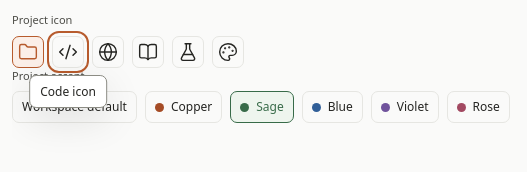
chat and appearance controls › gives project icons discoverable hover and keyboard labels without changing selection on focus
The width and height of the screenshot is (527, 172).
Expected: the text with class "control-label" reads "Code icon", [40, 82, 96, 100]
Step 1. Press Escape
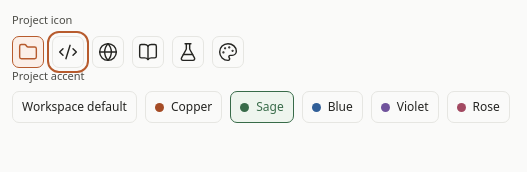
Result: the text with class "control-label" is gone
Step 2. Press Enter
Step 3. Hover over the button named "Globe icon" → (108, 52), box [92, 36, 124, 68]
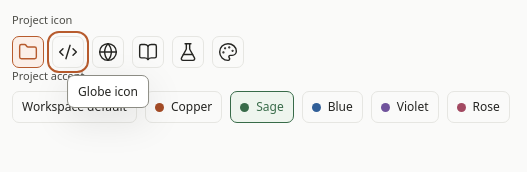
Result: the text with class "control-label" reads "Globe icon" at [78, 82, 138, 100]
